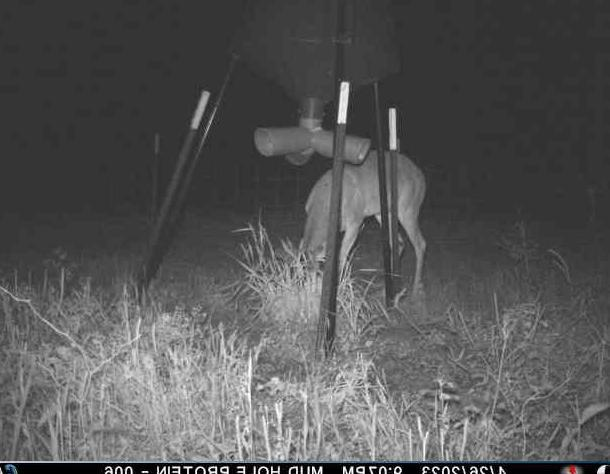Deer: (287, 140, 428, 305)
